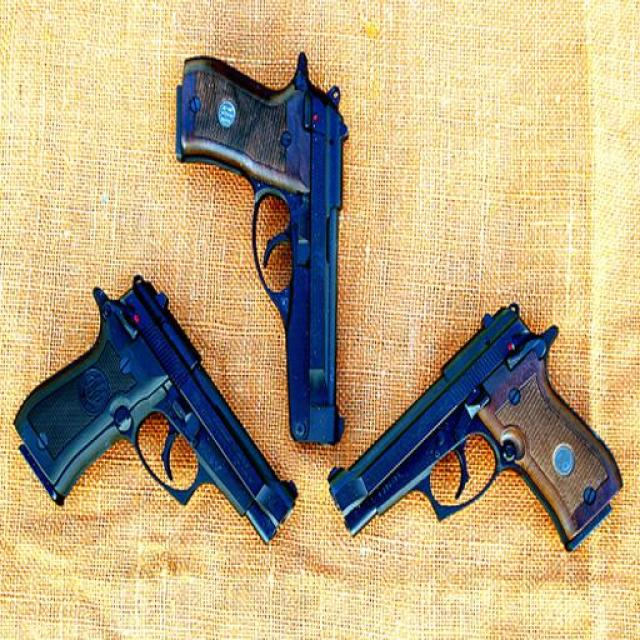pistol: (325, 298, 624, 574), (15, 270, 295, 549), (171, 55, 347, 449)
